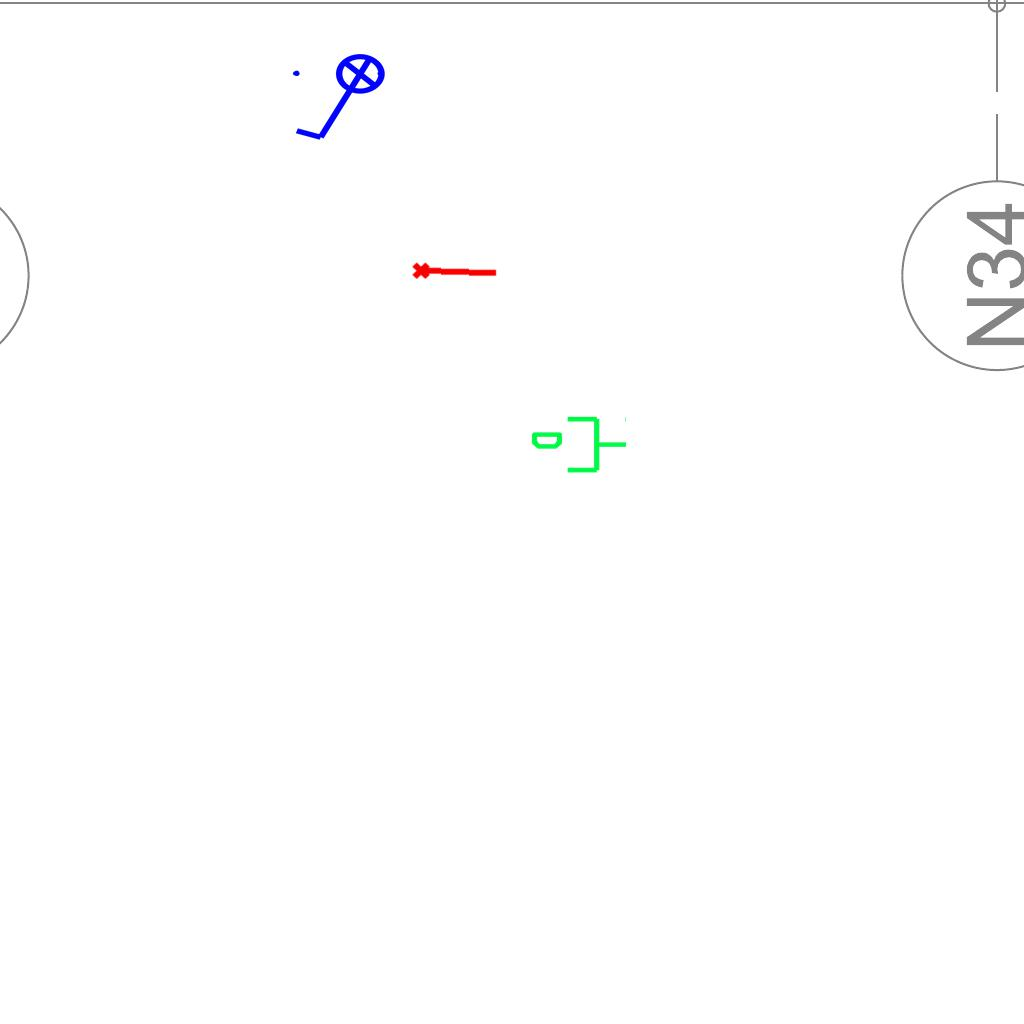ASR_Ansaugoeffnung: (410, 257, 500, 284)
Ausschalter_beleuchtet: (287, 52, 399, 148)
Datenanschluss_einfach: (529, 412, 629, 481)
